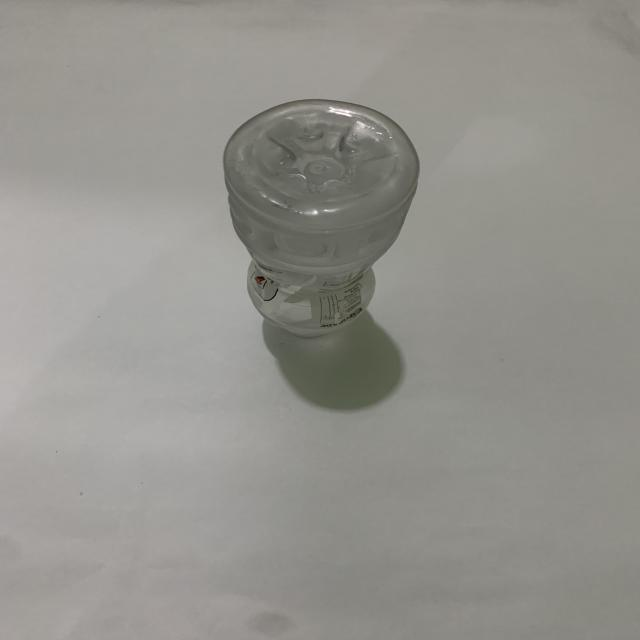empty: (223, 99, 419, 337)
